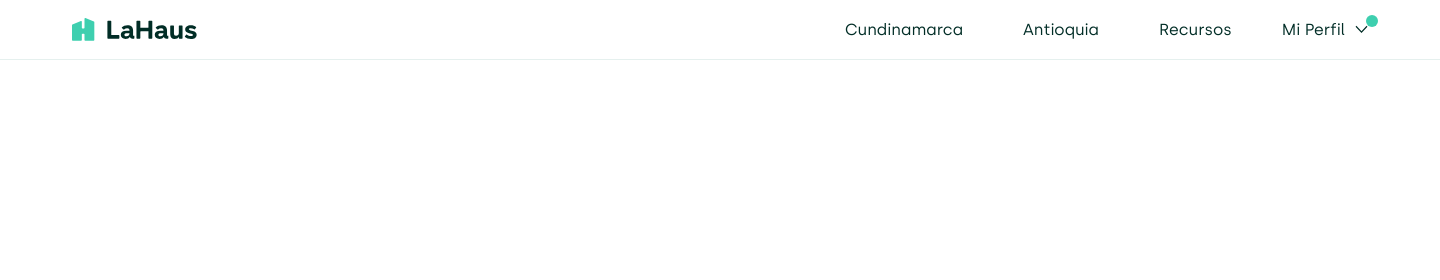
Header › Should open the profile dropdown menu when clicked
The image size is (1440, 280).
Expected: the element with test id "header-container" does not show "Cerrar sesión"
Click the element with test id "open-perfil" at (1325, 30), box [1282,18,1368,42]
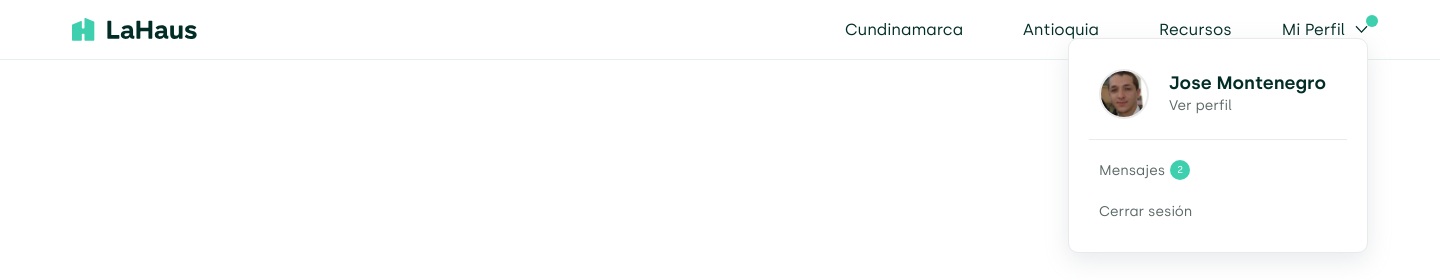
Expected: the header with test id "header-container" shows "Cerrar sesión", [1099,202,1192,220]
